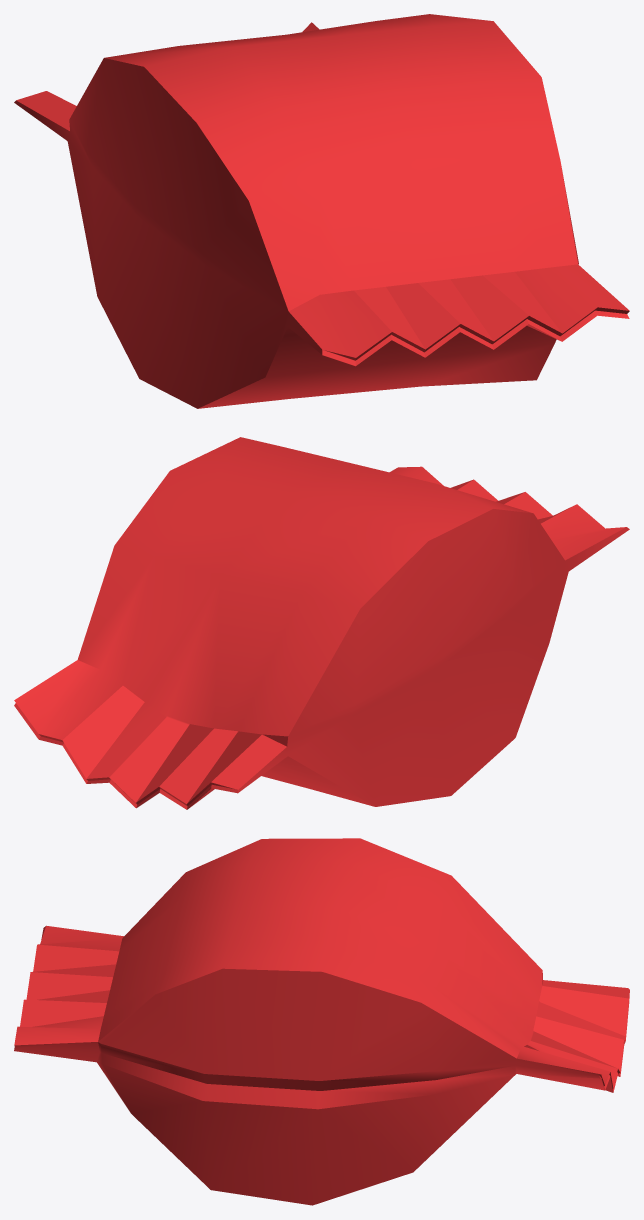
File: SM_Candies1.fbx
3 views of the same model, one above another, from view 1: azimuth 30°, elevation 25°; view 2: azimuth 150°, elevation 25°; view 3: azimuth 270°, elevation 25° (orthographic). The views are drawn at different scales.
Parts seen in each view (by area): view 1: SM_Candies1_LOD0; view 2: SM_Candies1_LOD0; view 3: SM_Candies1_LOD0.
Part boxes in pixels (bbox=[...]): SM_Candies1_LOD0: bbox=[14, 14, 629, 408]; SM_Candies1_LOD0: bbox=[14, 437, 629, 809]; SM_Candies1_LOD0: bbox=[14, 838, 629, 1205].
Size of the model in its own units: 12.03 by 23.2 by 10.65.
Materials: 1 (1 with a texture image).
